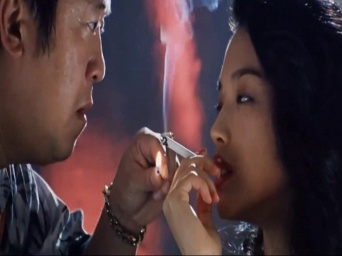smoke: (158, 133, 204, 165)
